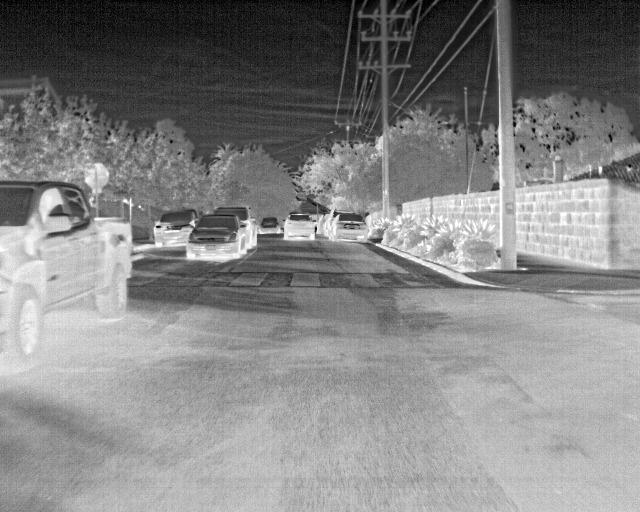car: (0, 179, 132, 359), (184, 214, 241, 260), (213, 206, 256, 251), (152, 212, 198, 247), (331, 213, 370, 242), (282, 212, 314, 240), (322, 213, 340, 235), (257, 218, 279, 234)
